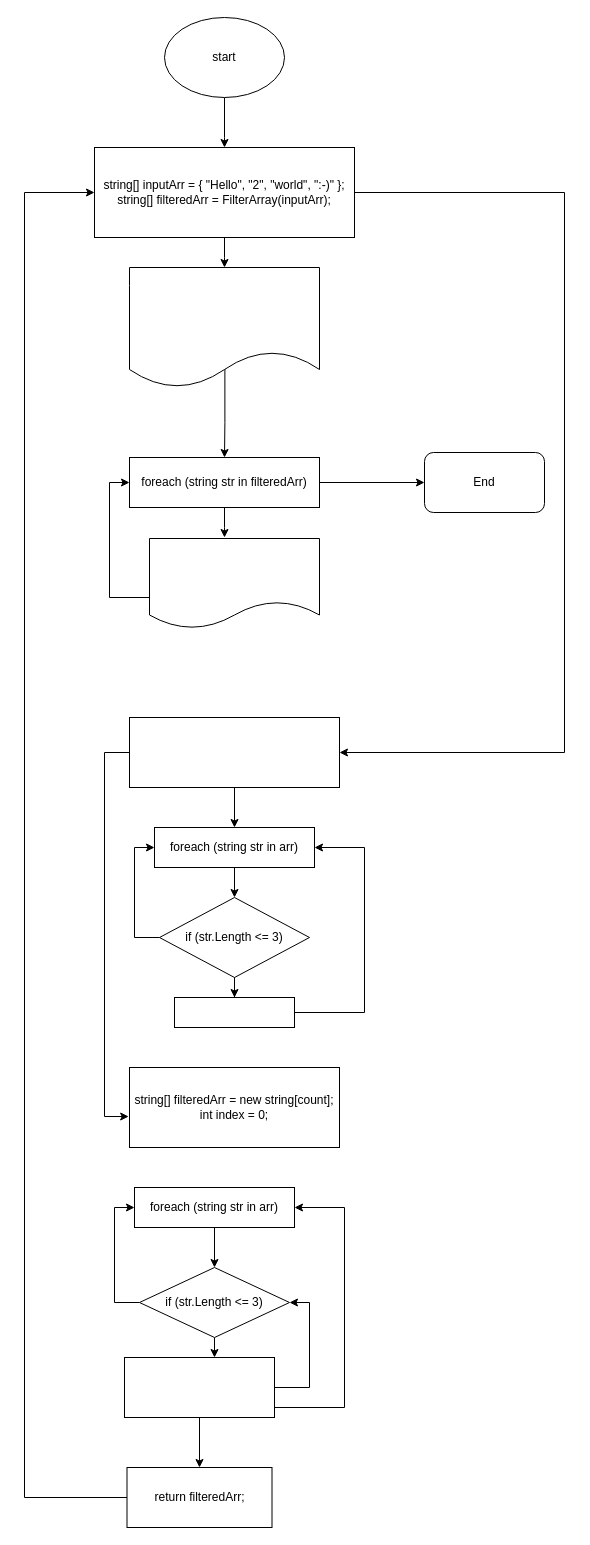
This 590x1545 diagram has some shape labels left out. Here are the shapes that lost their labels. From the top down, the centre of each, then its label:
the point at 224,327: Console.WriteLine("Новый массив строк:");
the point at 234,583: Console.WriteLine(str);
the point at 234,752: static string[] FilterArray(string[] arr) int count = 0;
the point at 234,1012: count++;
the point at 199,1387: filteredArr[index] = str; index++;
